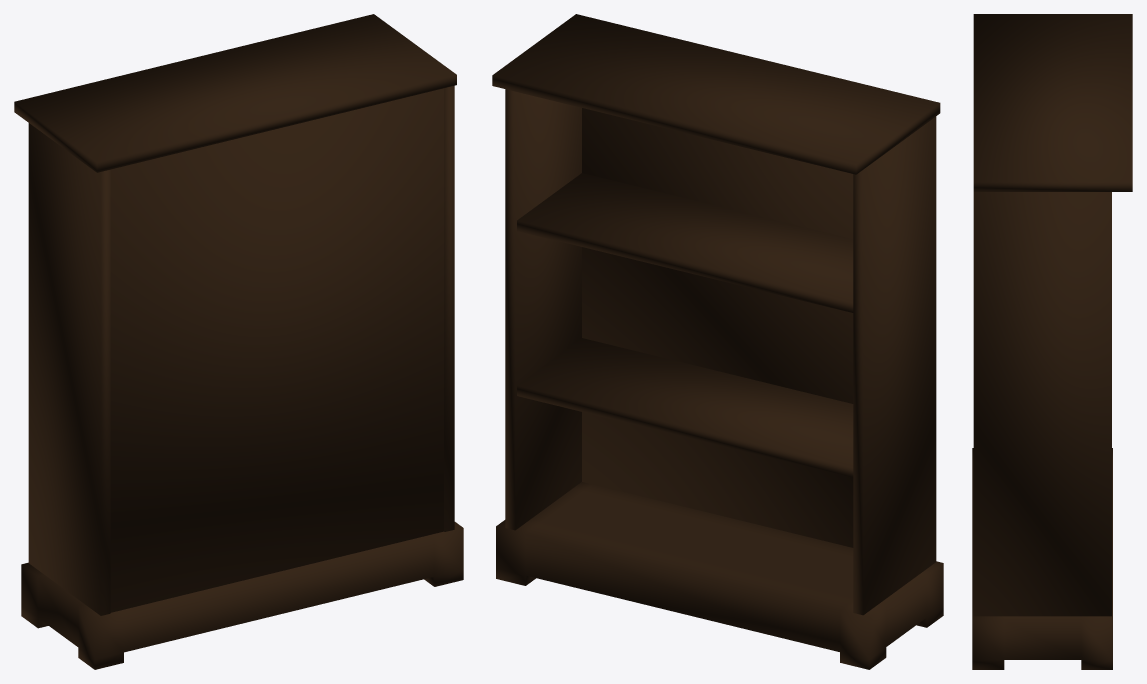
The model's file is Shelf3.glb.
The picture shows the model from 3 angles, left to right: view 1: azimuth 30°, elevation 25°; view 2: azimuth 150°, elevation 25°; view 3: azimuth 270°, elevation 25°; orthographic projection. The views are drawn at different scales.
Visible parts, largest first — view 1: SHelf; view 2: SHelf; view 3: SHelf.
Part boxes in pixels (x1,y1,x2,y2): SHelf: (14,14,463,669); SHelf: (492,14,943,669); SHelf: (972,14,1132,669).
Size of the model in its own units: 0.6724 by 0.8818 by 0.2638.
